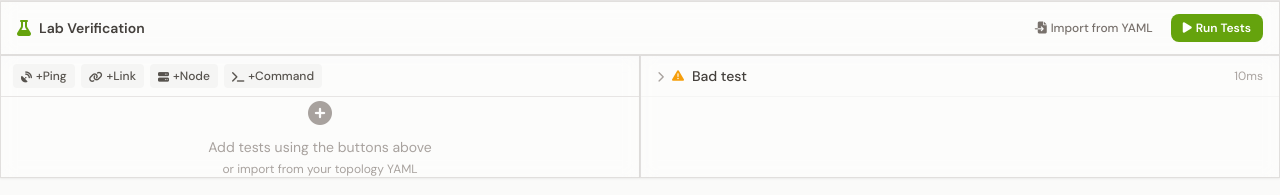
Test: VerificationPanel › Results list › renders error result
This screenshot has width=1280, height=195.
Details are collapsed by default — click to expand
Click the text "Bad test" at (719, 76), box [692,66,747,86]
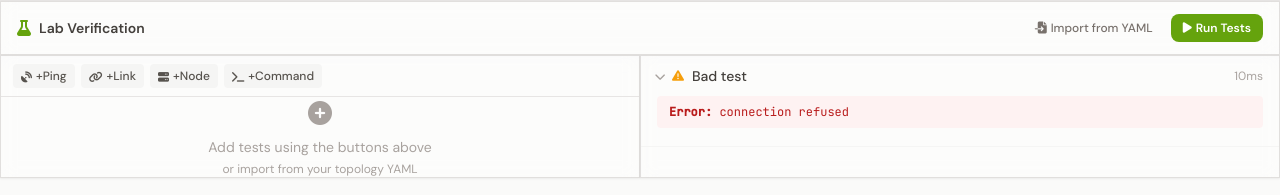
Result: the text "Error: connection refused" is shown at [657,96,1263,128]
